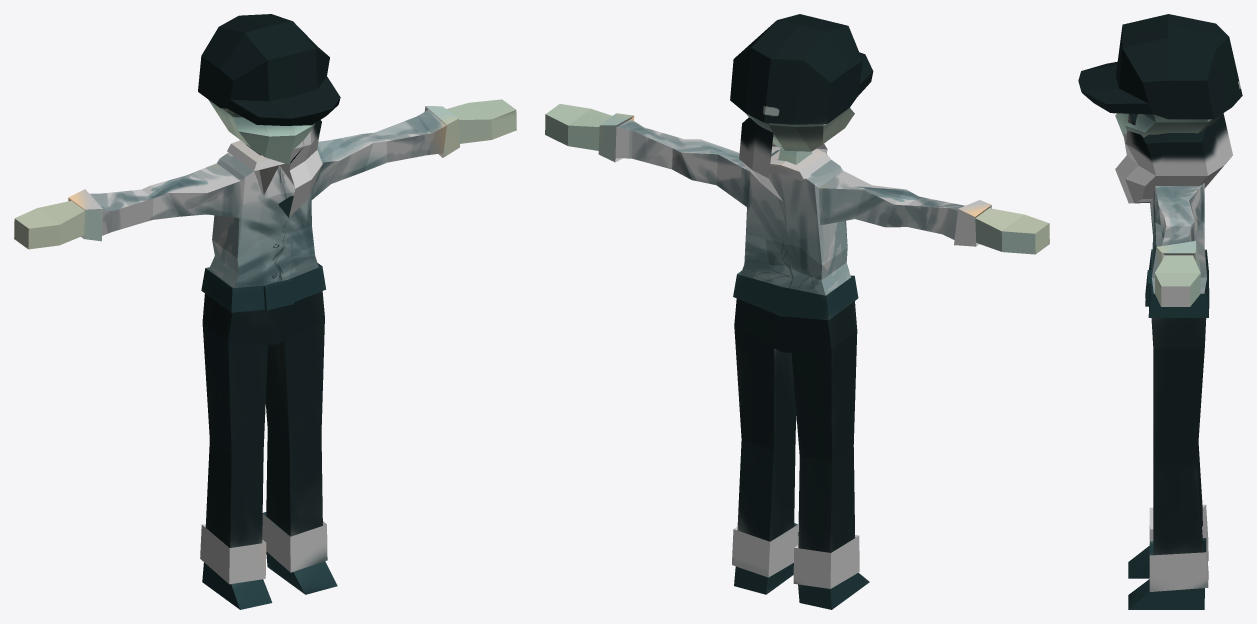
File: janitor.glb
3 views of the same model, side by side, from view 1: azimuth 30°, elevation 25°; view 2: azimuth 150°, elevation 25°; view 3: azimuth 270°, elevation 25° (orthographic).
Visible parts, largest first — view 1: Cube, Cube.002, Cube.001; view 2: Cube, Cube.002, Cube.001; view 3: Cube, Cube.002, Cube.001.
Boxes of the visible parts, bbox=[...] form: Cube: bbox=[14, 99, 516, 609]; Cube.002: bbox=[198, 14, 340, 125]; Cube.001: bbox=[239, 120, 322, 217]; Cube: bbox=[545, 104, 1049, 609]; Cube.002: bbox=[730, 14, 873, 124]; Cube.001: bbox=[739, 117, 827, 200]; Cube: bbox=[1115, 113, 1222, 609]; Cube.002: bbox=[1078, 14, 1242, 119]; Cube.001: bbox=[1115, 113, 1232, 203].
Bounding box in the file's own units: 11.62 × 12.7 × 3.36.
2 materials, 2 textured.
